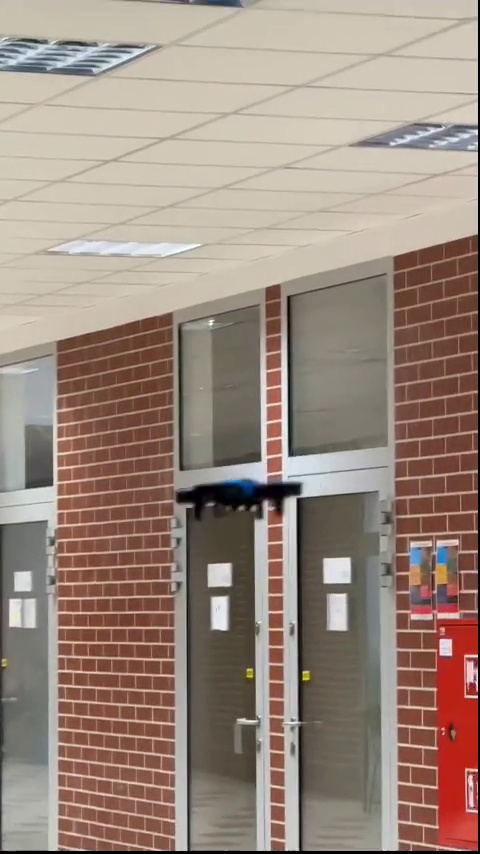drone: (176, 480, 301, 520)
